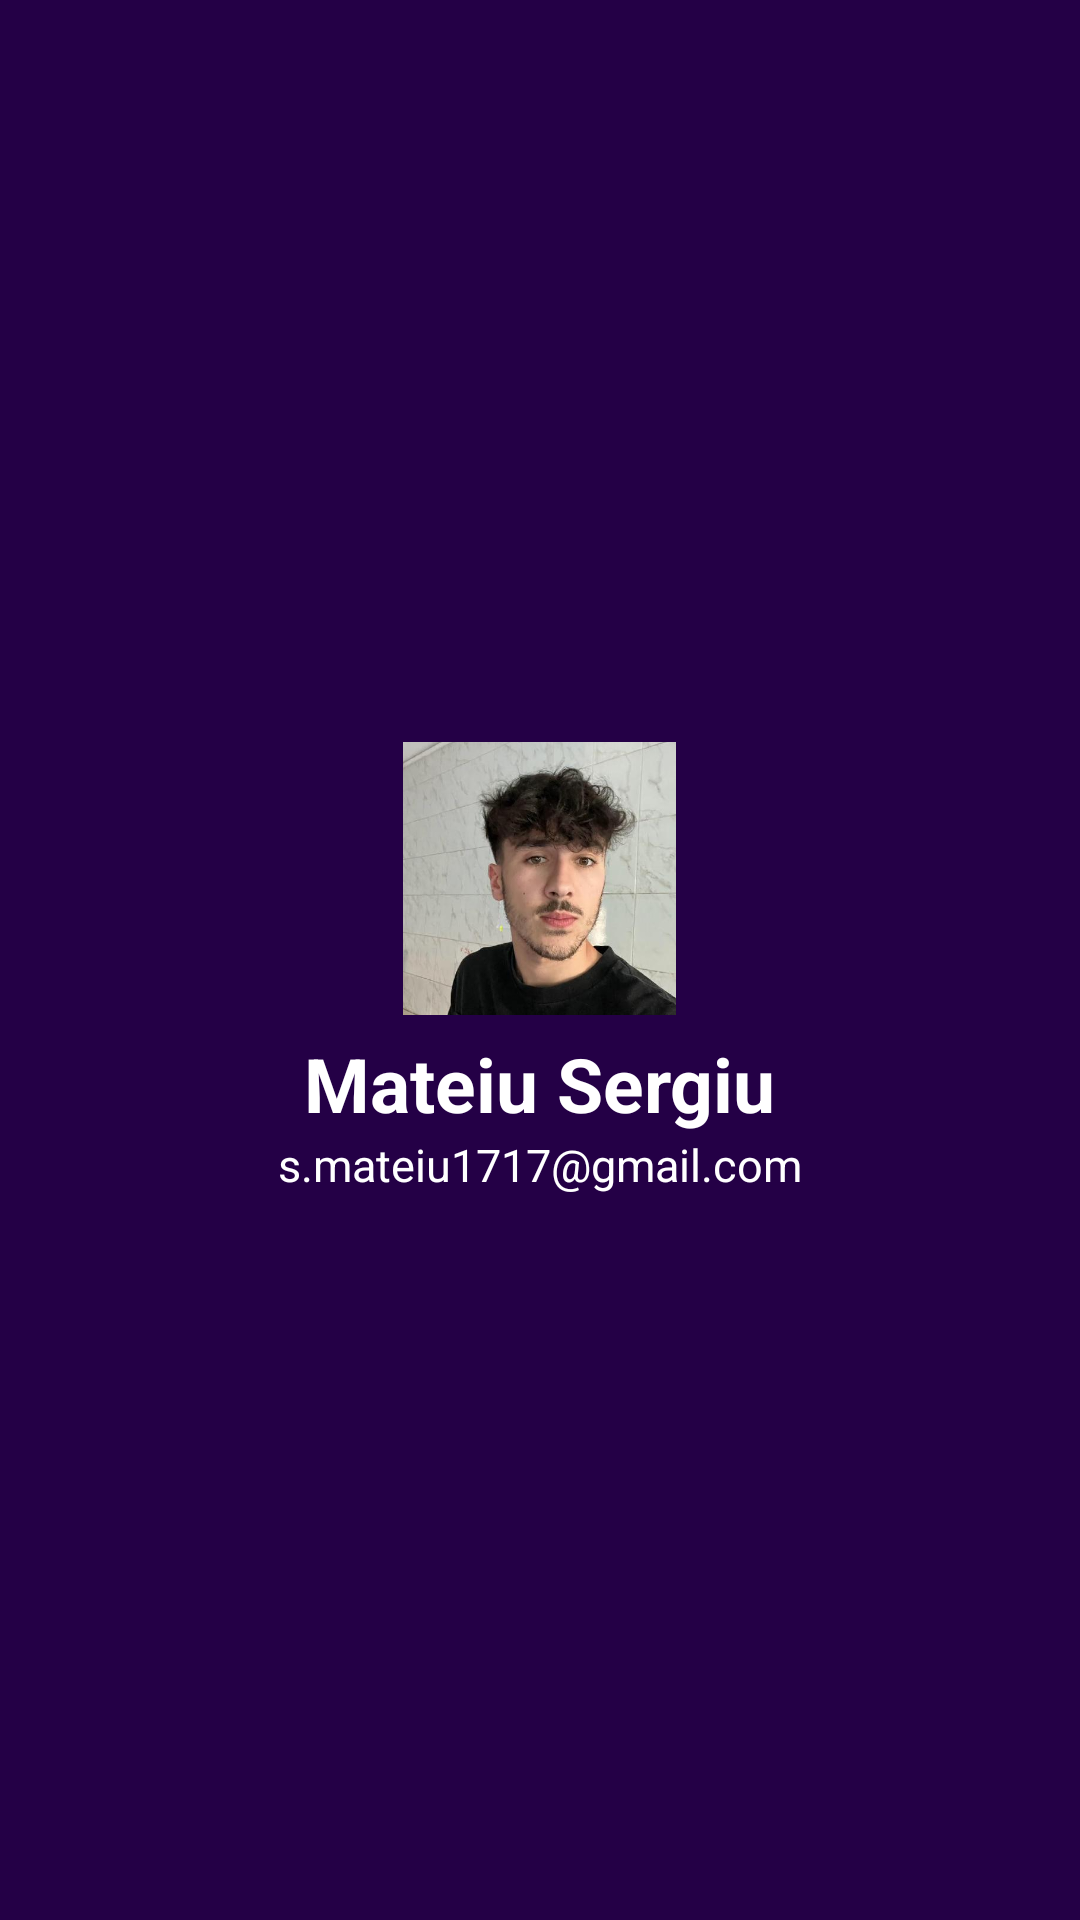

Screen size 1080px×1920px. Icon name, then its center in pixels as (x=x, y=y):
photo: (x=539, y=878)
